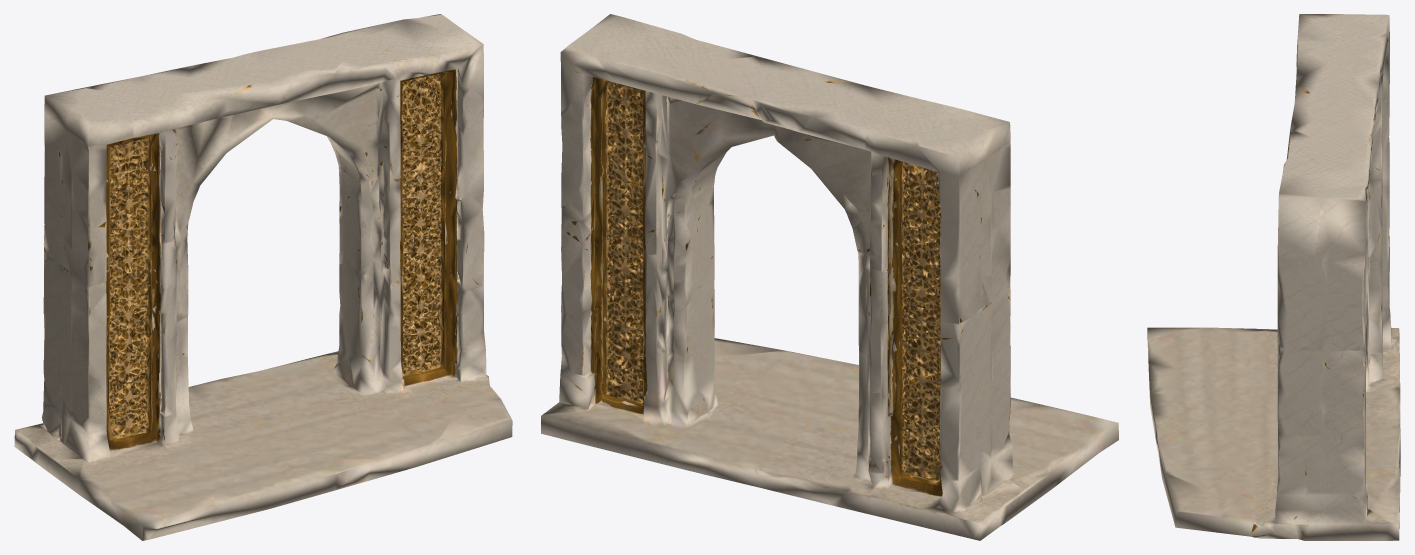
Rendered from gateway_portal.glb.
The picture shows the model from 3 angles, left to right: view 1: azimuth 30°, elevation 25°; view 2: azimuth 150°, elevation 25°; view 3: azimuth 270°, elevation 25°; orthographic projection. The views are drawn at different scales.
Visible parts, largest first — view 1: Mesh_0; view 2: Mesh_0; view 3: Mesh_0.
Part boxes in pixels (x1,y1,x2,y2): Mesh_0: (14, 14, 512, 540); Mesh_0: (541, 14, 1118, 540); Mesh_0: (1147, 14, 1400, 540).
Size of the model in its own units: 12.31 by 9.98 by 6.7.
1 material, 1 textured.
